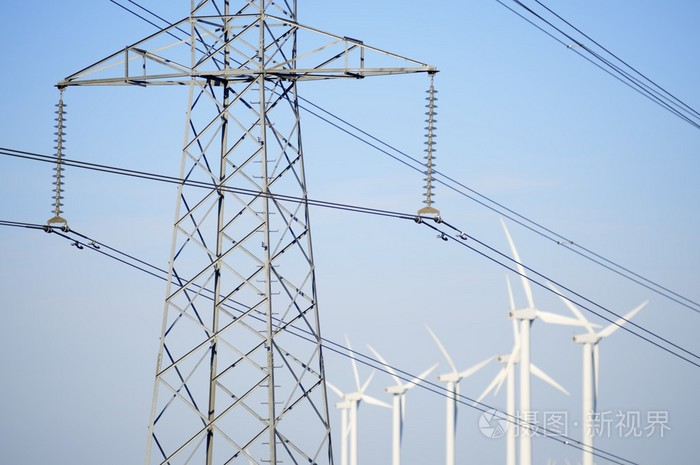insulator: (51, 101, 69, 217), (423, 88, 438, 206)
